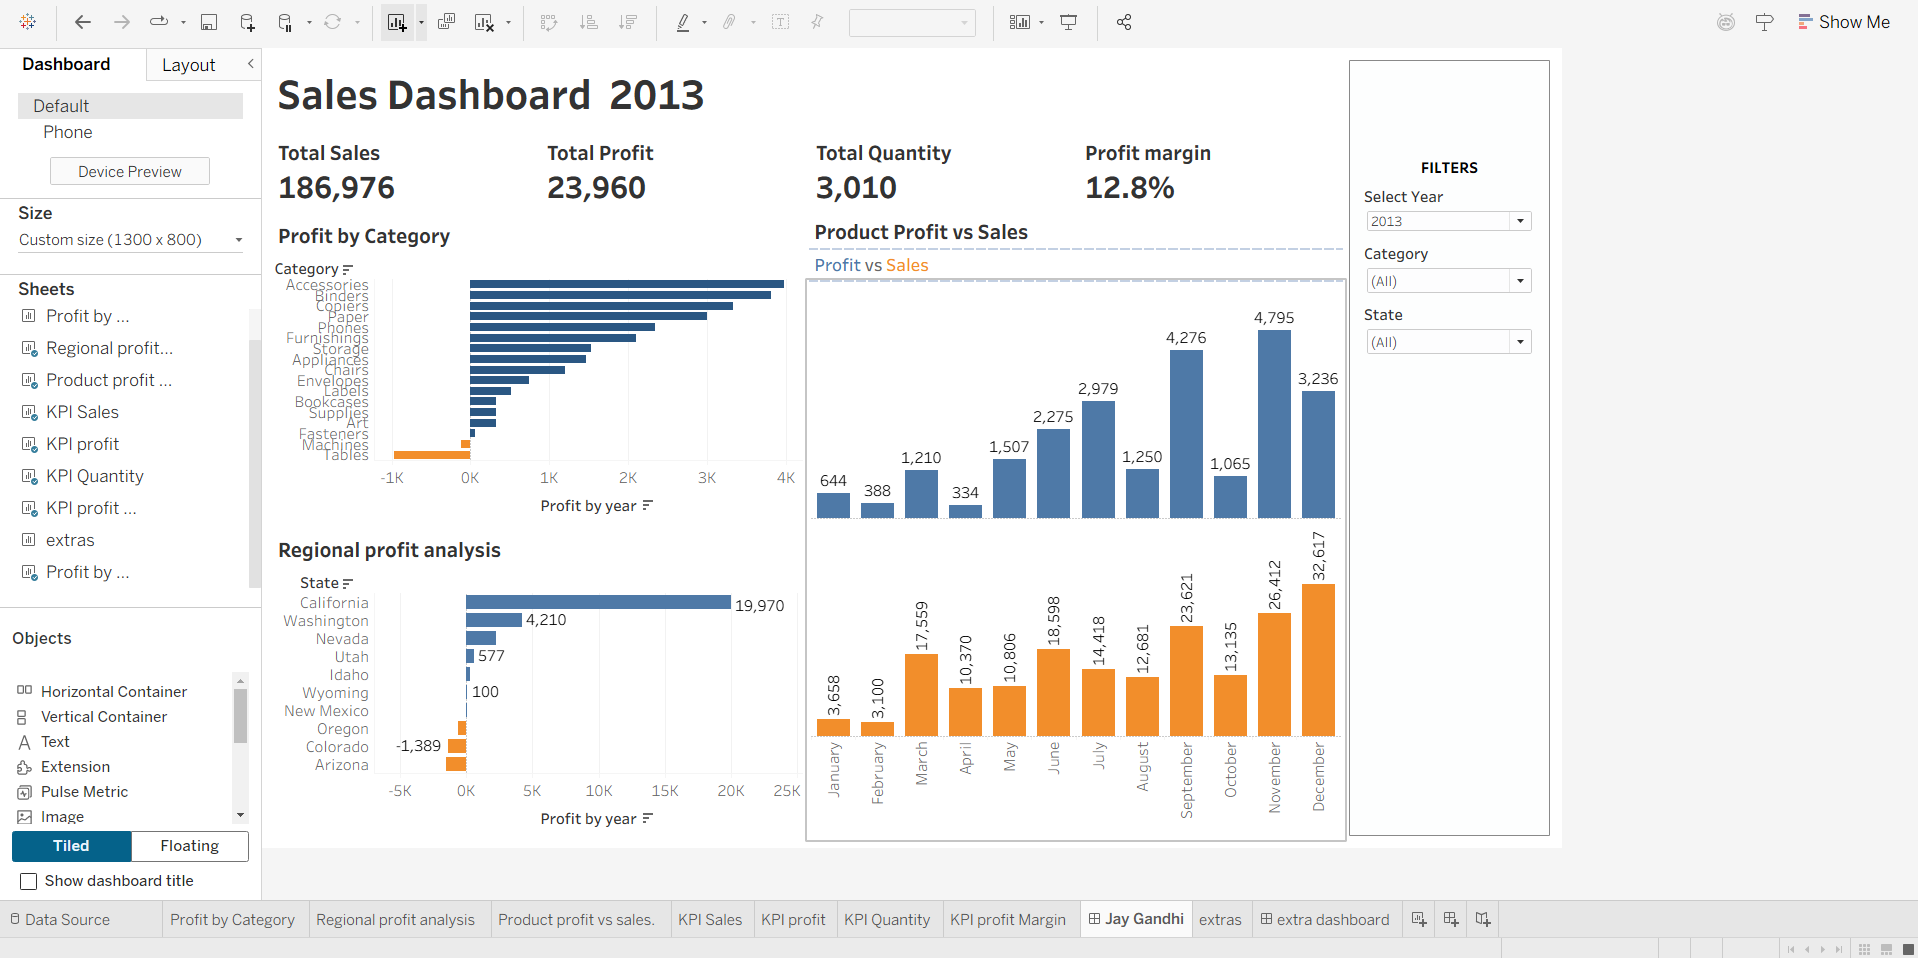

The page's visual inventory and layout, read from the dashboard file:
{"tool":"tableau","page":{"name":"Jay Gandhi","canvas":[1300,800],"ordinal":0},"visuals":[{"type":"text","box":[8,8,1075,74]},{"type":"blank","box":[1098,23,179,82]},{"type":"worksheet","title":"KPI Sales","mark":"Automatic","box":[8,82,269,83]},{"type":"worksheet","title":"KPI profit","mark":"Automatic","box":[277,82,269,83]},{"type":"worksheet","title":"KPI Quantity","mark":"Automatic","box":[546,82,269,83]},{"type":"worksheet","title":"KPI profit Margin","mark":"Automatic","box":[815,82,268,83]},{"type":"text","box":[1098,105,179,29]},{"type":"parameter","param":"[Parameters].[Parameter 2]","box":[1098,134,179,57]},{"type":"worksheet","title":"Profit by Category (2)","mark":"Automatic","rows":["Category"],"cols":["Calculation_1236801077627543553"],"box":[8,165,537,314]},{"type":"text","box":[545.5,165,537.5,35]},{"type":"filter","title":"Profit by Category (2)","param":"[federated.0yc3zuj0cu6m1213de3aq17i0brb].[none:Category:nk]","box":[1098,191,179,61]},{"type":"text","box":[545.5,200,537.5,32]},{"type":"worksheet","title":"Product profit vs sales.","mark":"Bar","rows":["Calculation_1236801077627543553","Profit of 2011 (copy)_1236801077627842562"],"cols":["Order Date"],"box":[545.5,232,537.5,560]},{"type":"filter","title":"Regional profit analysis","param":"[federated.0yc3zuj0cu6m1213de3aq17i0brb].[none:Geography - Split 2:nk]","box":[1098,252,179,61]},{"type":"worksheet","title":"Regional profit analysis","mark":"Bar","rows":["Geography - Split 2"],"cols":["Calculation_1236801077627543553"],"box":[8,479,537,313]}]}

Visuals, with their boxes on the page's 1300x800 design canvas (x1, y1, x2, y2). These are canvas units, not pixel positions in the 1918x958 screenshot, which may show the page scaled, cropped or inside an application window:
text: detection(8, 8, 1083, 82)
blank: detection(1098, 23, 1277, 105)
"KPI Sales" worksheet: detection(8, 82, 277, 165)
"KPI profit" worksheet: detection(277, 82, 546, 165)
"KPI Quantity" worksheet: detection(546, 82, 815, 165)
"KPI profit Margin" worksheet: detection(815, 82, 1083, 165)
text: detection(1098, 105, 1277, 134)
parameter: detection(1098, 134, 1277, 191)
"Profit by Category (2)" worksheet: detection(8, 165, 545, 479)
text: detection(546, 165, 1083, 200)
"Profit by Category (2)" filter: detection(1098, 191, 1277, 252)
text: detection(546, 200, 1083, 232)
"Product profit vs sales." worksheet (Bar marks): detection(546, 232, 1083, 792)
"Regional profit analysis" filter: detection(1098, 252, 1277, 313)
"Regional profit analysis" worksheet (Bar marks): detection(8, 479, 545, 792)
